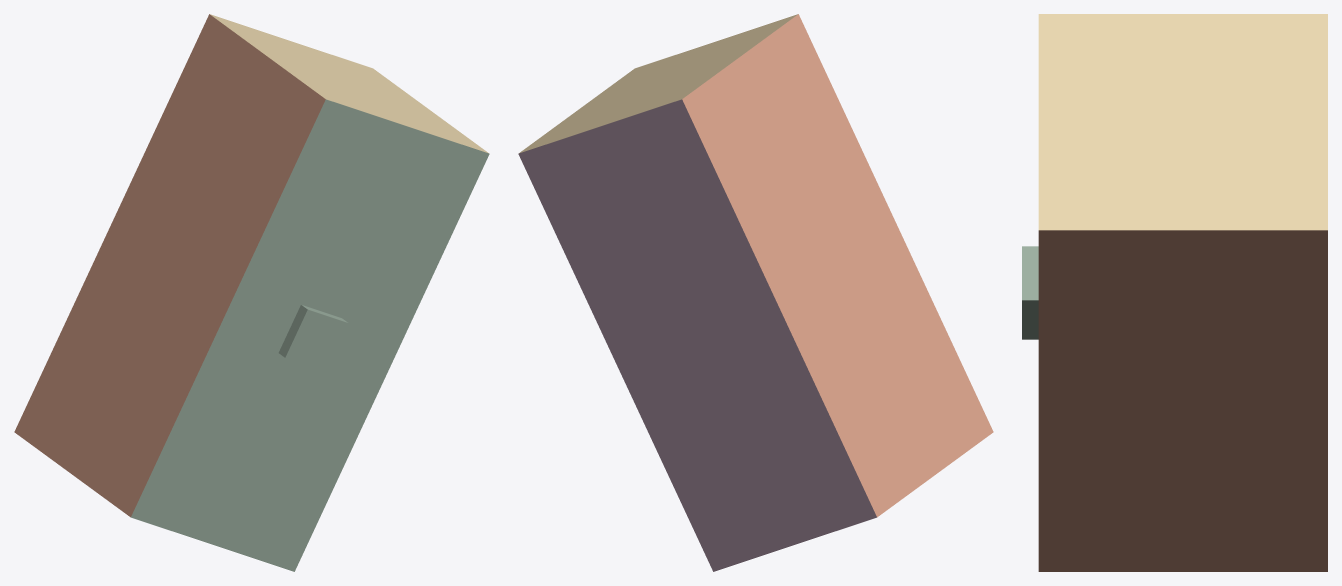
File: doitt-102705__lod_1.glb
3 views of the same model, side by side, from view 1: azimuth 30°, elevation 25°; view 2: azimuth 150°, elevation 25°; view 3: azimuth 270°, elevation 25° (orthographic). The views are drawn at different scales.
Size of the model in its own units: 26.3 by 32.56 by 15.64.
